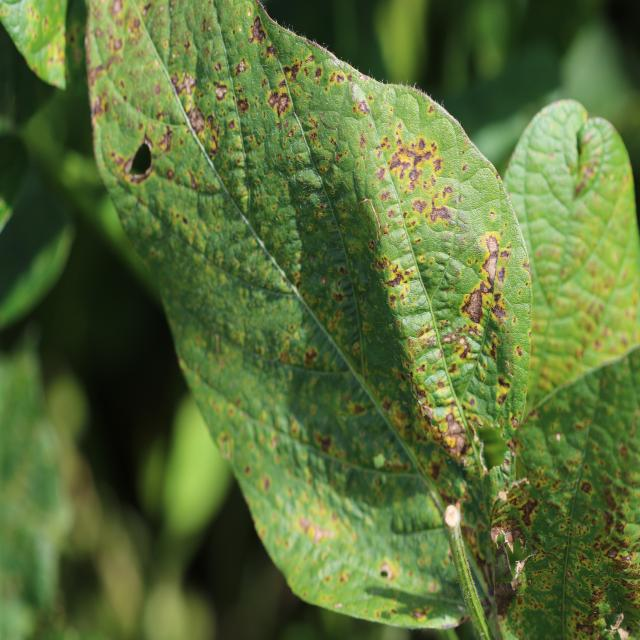Bacterial_Blight: (549, 255, 629, 351), (569, 542, 639, 635), (166, 60, 220, 159), (159, 185, 225, 257), (392, 136, 439, 190), (431, 409, 469, 454), (474, 420, 510, 467), (454, 281, 488, 324), (357, 196, 381, 246), (494, 580, 520, 620), (300, 516, 334, 546), (267, 85, 293, 120), (575, 159, 598, 197), (517, 496, 541, 527), (381, 262, 409, 288), (282, 60, 305, 86), (483, 250, 499, 284), (327, 68, 349, 90), (157, 125, 174, 153), (444, 504, 461, 531), (87, 64, 105, 88), (251, 15, 266, 43), (485, 235, 500, 256), (379, 561, 395, 580), (220, 436, 233, 459), (123, 153, 135, 176), (354, 98, 370, 115), (318, 434, 332, 453), (420, 404, 435, 421), (304, 348, 318, 366), (442, 332, 460, 345), (111, 0, 124, 17), (234, 58, 247, 74), (260, 475, 271, 493), (374, 167, 387, 181), (580, 480, 593, 494), (605, 546, 619, 559), (498, 375, 510, 390), (215, 85, 227, 100), (314, 66, 323, 81), (380, 190, 391, 202), (359, 134, 368, 148), (510, 416, 519, 429), (515, 345, 523, 358), (214, 61, 222, 72), (154, 84, 161, 95), (244, 465, 251, 475), (321, 275, 327, 285), (489, 211, 495, 219)
Soybean: (85, 0, 531, 638)
